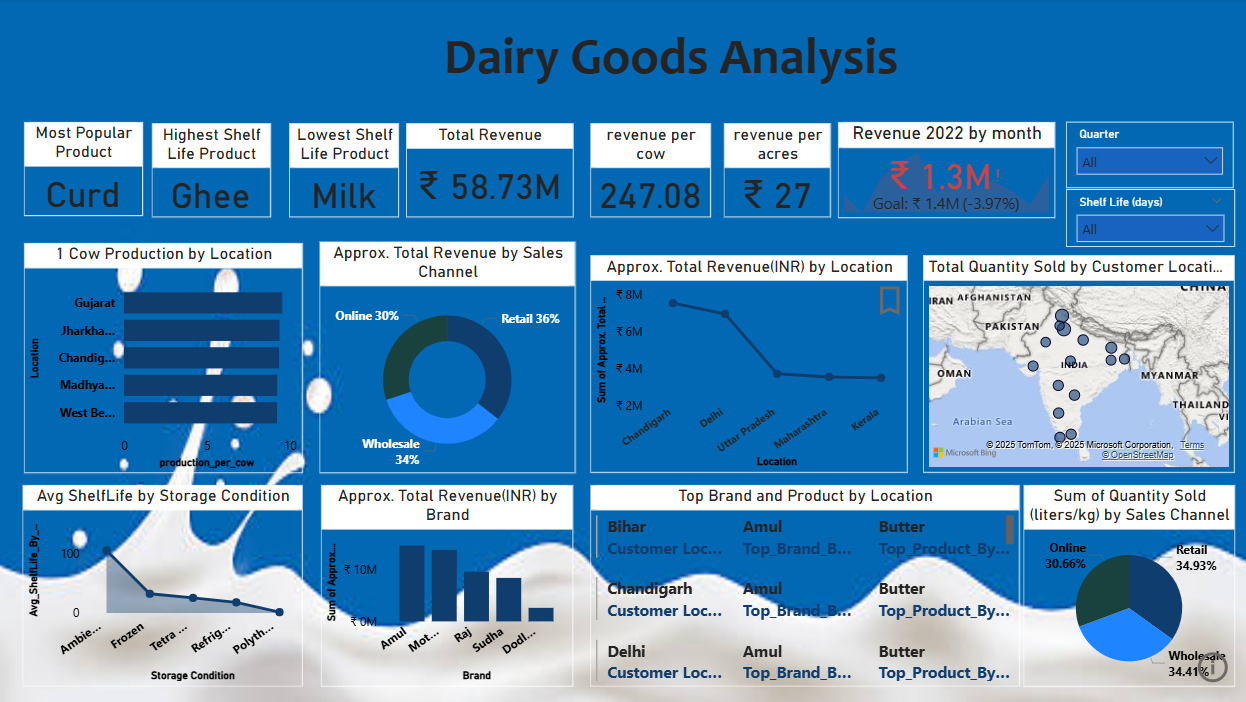

This screenshot's page, from the dashboard's own definition file:
{"tool":"powerbi","page":{"name":"Page 1","canvas":[1280,720],"ordinal":0},"visuals":[{"type":"card","title":"Most Popular Product ","fields":{"Values":["dairy_dataset.Most_Ordered_Product"]},"box":[24.8,125.5,121.1,96.3],"z":0},{"type":"card","title":"Total Revenue ","fields":{"Values":["Sum(dairy_dataset.Approx. Total Revenue(INR))"]},"box":[414.4,127,170.7,96.3],"z":1000},{"type":"donutChart","title":"Approx. Total Revenue by Sales Channel","fields":{"Category":["dairy_dataset.Sales Channel"],"Y":["Sum(dairy_dataset.Approx. Total Revenue(INR))"]},"box":[326.9,248.1,261.2,236.4],"z":2000},{"type":"barChart","title":"1 Cow Production by Location","fields":{"Category":["dairy_dataset.Location"],"Y":["dairy_dataset.production_per_cow"]},"box":[24.8,249.5,284.6,234.9],"z":3000},{"type":"map","title":"Total Quantity Sold  by Customer Location","fields":{"Category":["dairy_dataset.Customer Location"],"Size":["Sum(dairy_dataset.Quantity Sold (liters/kg))"]},"box":[942.7,262.7,318.1,221.8],"z":4000},{"type":"columnChart","title":"Approx. Total Revenue(INR) by Brand","fields":{"Category":["dairy_dataset.Brand"],"Y":["Sum(dairy_dataset.Approx. Total Revenue(INR))"]},"box":[328.4,495.8,257.6,206],"z":5000},{"type":"lineChart","title":"Approx. Total Revenue(INR) by Location","fields":{"Category":["dairy_dataset.Location"],"Y":["Sum(dairy_dataset.Approx. Total Revenue(INR))"]},"box":[602.7,262.7,324,221.8],"z":6000},{"type":"card","title":"Highest Shelf Life Product","fields":{"Values":["dairy_dataset.Product_Max_ShelfLife"]},"box":[156.1,127,121.1,96.3],"z":7000},{"type":"areaChart","title":"Avg ShelfLife by Storage Condition","fields":{"Category":["dairy_dataset.Storage Condition"],"Y":["dairy_dataset.Avg_ShelfLife_By_Storage"]},"box":[23.3,496.1,286,205.8],"z":8000},{"type":"pieChart","fields":{"Category":["dairy_dataset.Sales Channel"],"Y":["Sum(dairy_dataset.Quantity Sold (liters/kg))"]},"box":[1044.5,496.3,215.9,206.1],"z":9000},{"type":"card","title":"Lowest Shelf Life Product","fields":{"Values":["dairy_dataset.Product_Min_ShelfLife"]},"box":[296.2,127,112.4,96.3],"z":10000},{"type":"multiRowCard","title":"Top Brand and Product by Location","fields":{"Values":["dairy_dataset.Customer Location","dairy_dataset.Top_Brand_By_Location","dairy_dataset.Top_Product_By_Location"]},"box":[602.7,496.1,437.8,205.8],"z":11000},{"type":"slicer","fields":{"Values":["dairy_dataset.Shelf Life (days)"]},"box":[1088,194.9,172.5,58.9],"z":12000},{"type":"kpi","title":"Revenue 2022 by month","fields":{"TrendLine":["dairy_dataset.month_name"],"Goal":["dairy_dataset.revenue2021"],"Indicator":["dairy_dataset.revenue2022"]},"box":[855.3,126.2,221.5,98.1],"z":13000},{"type":"slicer","fields":{"Values":["dairy_dataset.Date.Variation.Date Hierarchy.Quarter"]},"box":[1088,126.2,171.1,67.3],"z":14000},{"type":"textbox","title":"Dairy Goods Analysis","box":[407.4,26.5,554.4,72.1],"z":15000},{"type":"card","title":"revenue per cow","fields":{"Values":["dairy_dataset.revenue_per_cow"]},"box":[602.7,127,122.6,96.3],"z":16000},{"type":"card","title":"revenue per acres","fields":{"Values":["dairy_dataset.revenue_per_acres"]},"box":[738.4,127,109.4,96.3],"z":17000},{"type":"actionButton","box":[888.2,286.8,38.2,41.2],"z":18000},{"type":"actionButton","box":[1217,661.8,49.1,40.7],"z":19000}]}

Visuals, with their boxes in screenshot pixels (x1, y1, x2, y2), scaled from the page's 1280x720 canvas onto the 1246x702 screenshot:
"Most Popular Product " card: box=[24, 122, 142, 216]
"Total Revenue " card: box=[403, 124, 570, 218]
"Approx. Total Revenue by Sales Channel" donutChart: box=[318, 242, 572, 472]
"1 Cow Production by Location" barChart: box=[24, 243, 301, 472]
"Total Quantity Sold  by Customer Location" map: box=[918, 256, 1227, 472]
"Approx. Total Revenue(INR) by Brand" columnChart: box=[320, 483, 570, 684]
"Approx. Total Revenue(INR) by Location" lineChart: box=[587, 256, 902, 472]
"Highest Shelf Life Product" card: box=[152, 124, 270, 218]
"Avg ShelfLife by Storage Condition" areaChart: box=[23, 484, 301, 684]
pieChart - dairy_dataset.Sales Channel x Sum(dairy_dataset.Quantity Sold (liters/kg)): box=[1017, 484, 1227, 685]
"Lowest Shelf Life Product" card: box=[288, 124, 398, 218]
"Top Brand and Product by Location" multiRowCard: box=[587, 484, 1013, 684]
slicer - dairy_dataset.Shelf Life (days): box=[1059, 190, 1227, 247]
"Revenue 2022 by month" kpi: box=[833, 123, 1048, 219]
slicer - dairy_dataset.Date.Variation.Date Hierarchy.Quarter: box=[1059, 123, 1226, 189]
"Dairy Goods Analysis" textbox: box=[397, 26, 936, 96]
"revenue per cow" card: box=[587, 124, 706, 218]
"revenue per acres" card: box=[719, 124, 825, 218]
actionButton: box=[865, 280, 902, 320]
actionButton: box=[1185, 645, 1232, 685]
